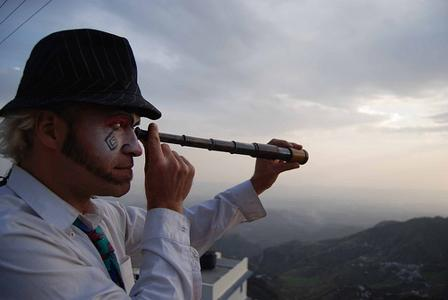person: (2, 30, 304, 299)
